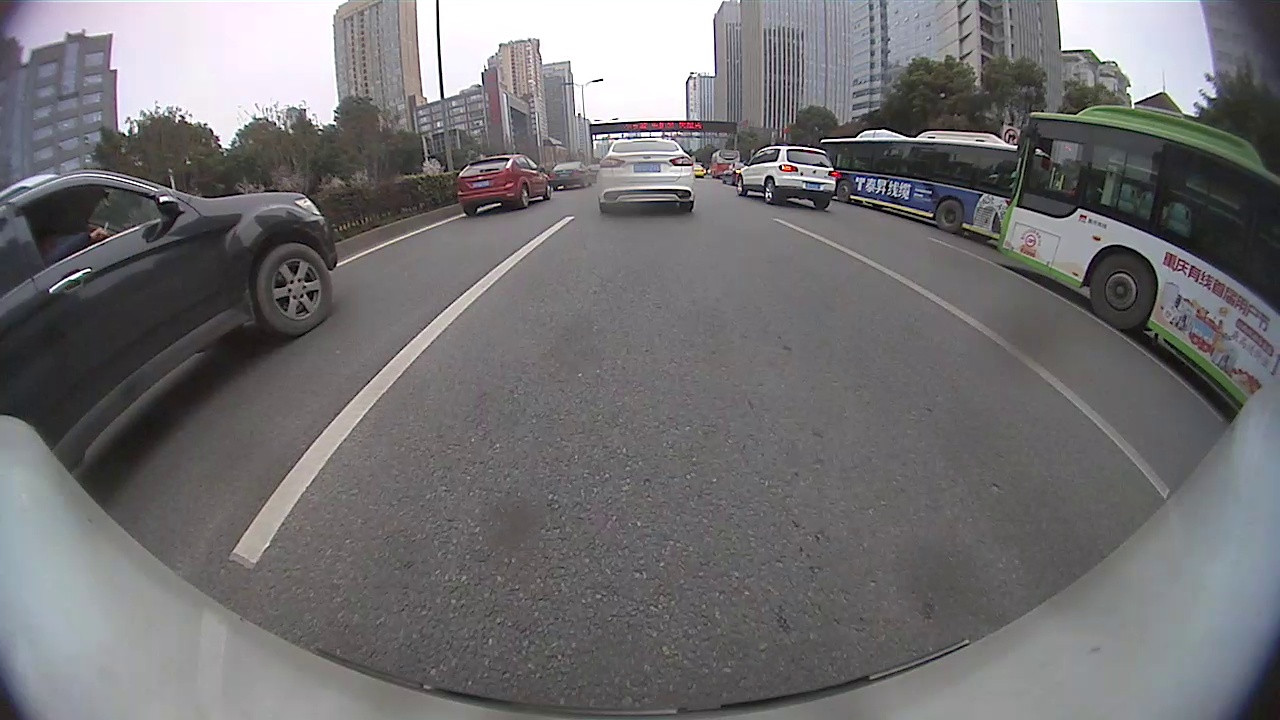bus: (993, 105, 1279, 417), (817, 128, 1031, 246), (706, 151, 742, 179)
car: (1, 167, 341, 484), (593, 136, 697, 215), (733, 143, 839, 214), (456, 153, 554, 218), (549, 158, 595, 192)
front: (254, 242, 334, 335), (1087, 251, 1158, 328), (837, 181, 851, 204), (735, 178, 744, 197)
rear: (935, 199, 962, 233), (762, 179, 781, 205), (520, 185, 533, 211)
